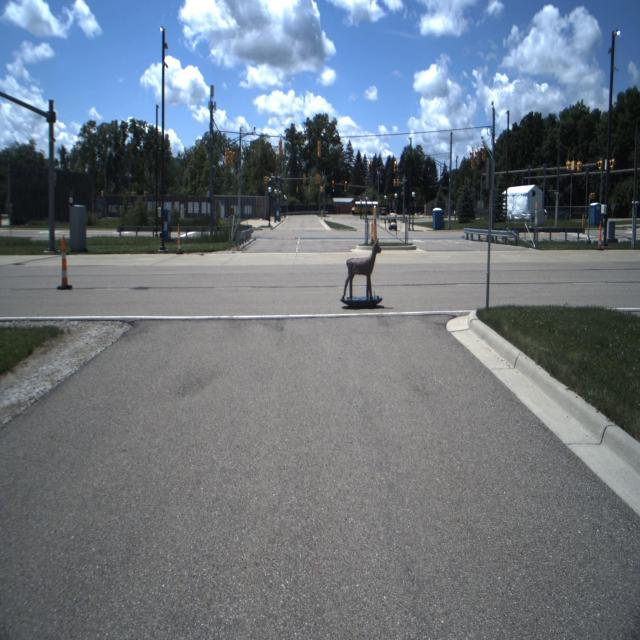Deer: (344, 238, 381, 298)
